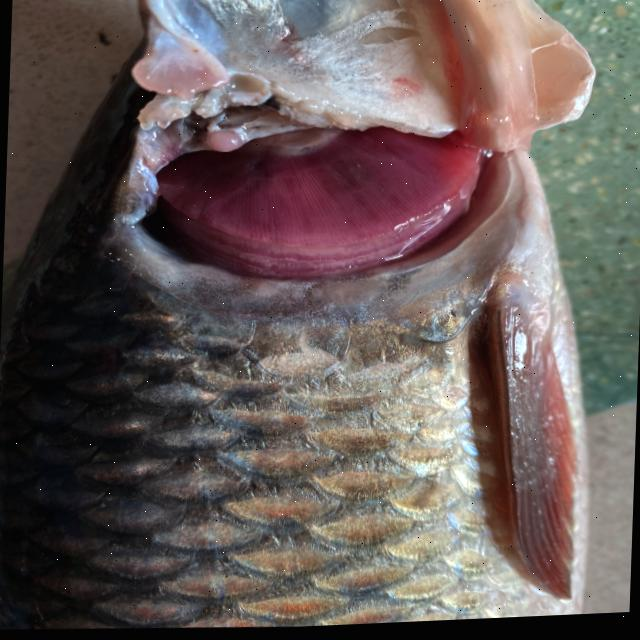Fresh: (160, 75, 504, 308)
